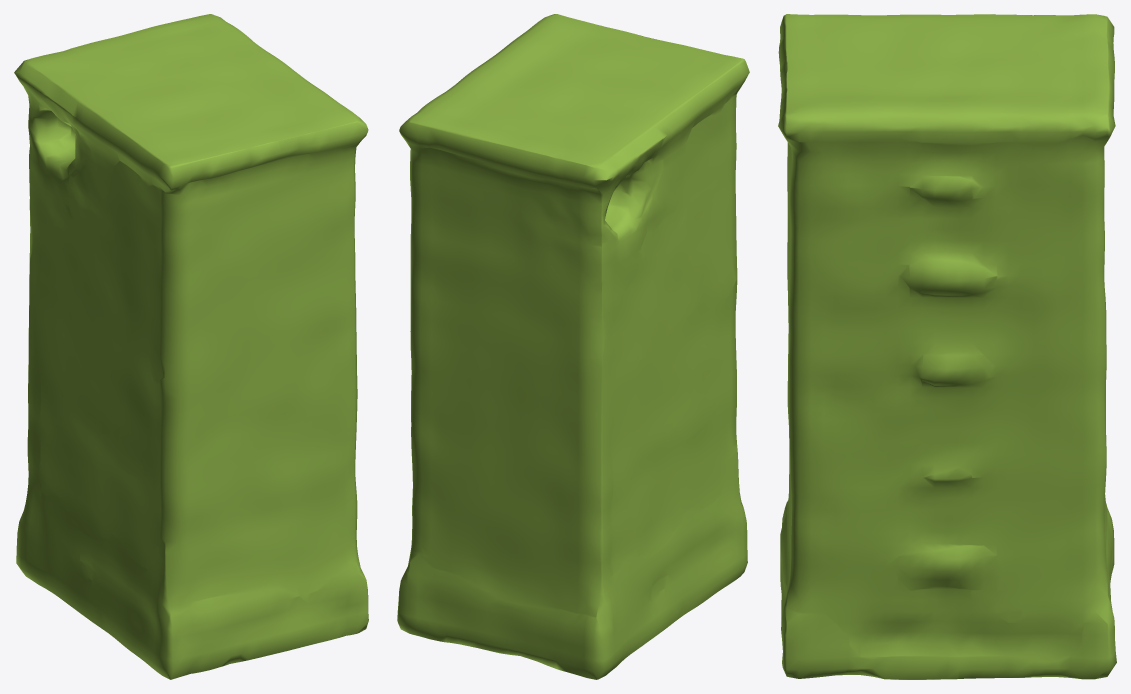
Rendered from cabinet_3_5.obj.
The picture shows the model from 3 angles, left to right: view 1: azimuth 30°, elevation 25°; view 2: azimuth 150°, elevation 25°; view 3: azimuth 270°, elevation 25°; orthographic projection. The views are drawn at different scales.
Size of the model in its own units: 0.3454 by 0.7925 by 0.4293.
